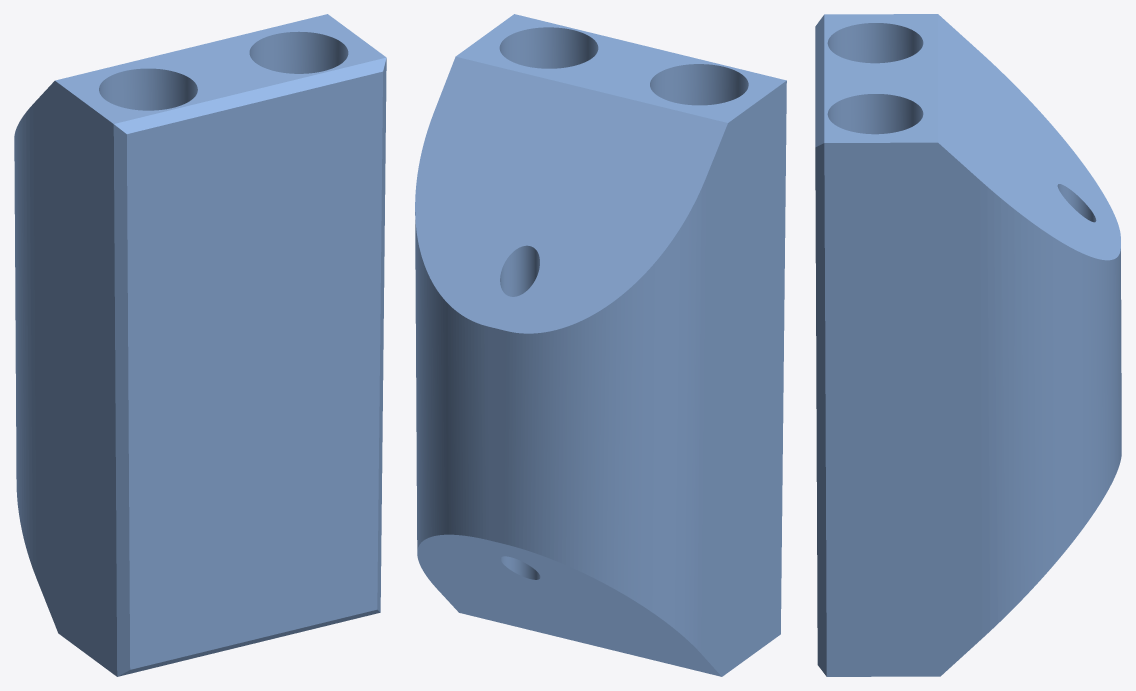
File: dedo_anular_2.dae
The picture shows the model from 3 angles, left to right: view 1: azimuth 30°, elevation 25°; view 2: azimuth 150°, elevation 25°; view 3: azimuth 270°, elevation 25°; orthographic projection. The views are drawn at different scales.
Parts seen in each view (by area): view 1: Fingerdesign-All-2.006; view 2: Fingerdesign-All-2.006; view 3: Fingerdesign-All-2.006.
Boxes of the visible parts, x1,y1,x2,y2 form: Fingerdesign-All-2.006: (14, 14, 386, 676); Fingerdesign-All-2.006: (415, 14, 786, 676); Fingerdesign-All-2.006: (815, 14, 1121, 676).
Bounding box in the file's own units: 0.0134 × 0.0135 × 0.026.
